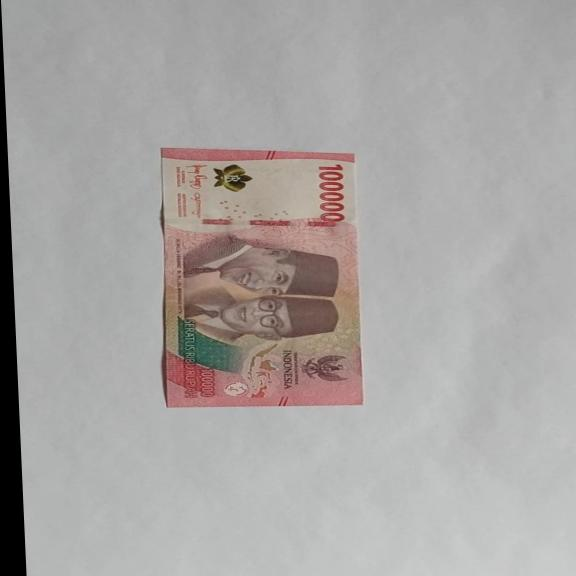Kertas: (153, 147, 368, 408), (315, 163, 348, 223)
